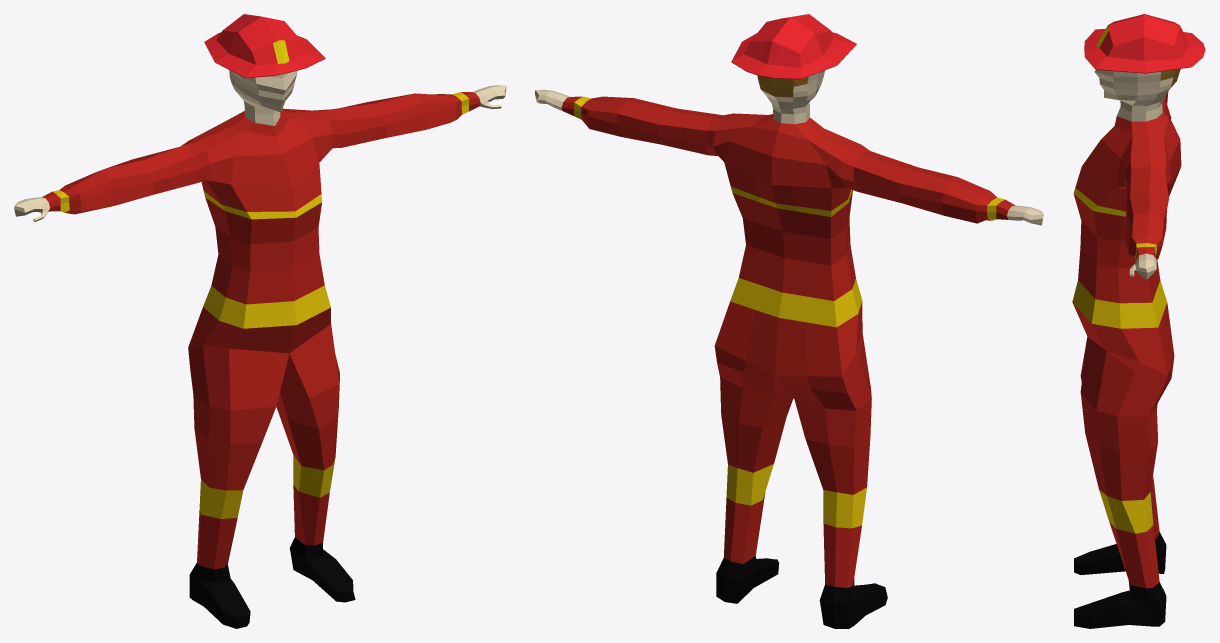
File: player_low_poly.fbx
The picture shows the model from 3 angles, left to right: view 1: azimuth 30°, elevation 25°; view 2: azimuth 150°, elevation 25°; view 3: azimuth 270°, elevation 25°; orthographic projection. The views are drawn at different scales.
Visible parts, largest first — view 1: perso, casque; view 2: perso, casque; view 3: perso, casque.
Part boxes in pixels (box(x1,y1,x2,y2)): perso: box(14, 70, 506, 628); casque: box(204, 14, 325, 78); perso: box(535, 70, 1043, 628); casque: box(731, 14, 856, 79); perso: box(1072, 69, 1181, 628); casque: box(1084, 14, 1205, 73).
Size of the model in its own units: 337 by 374 by 77.81.
